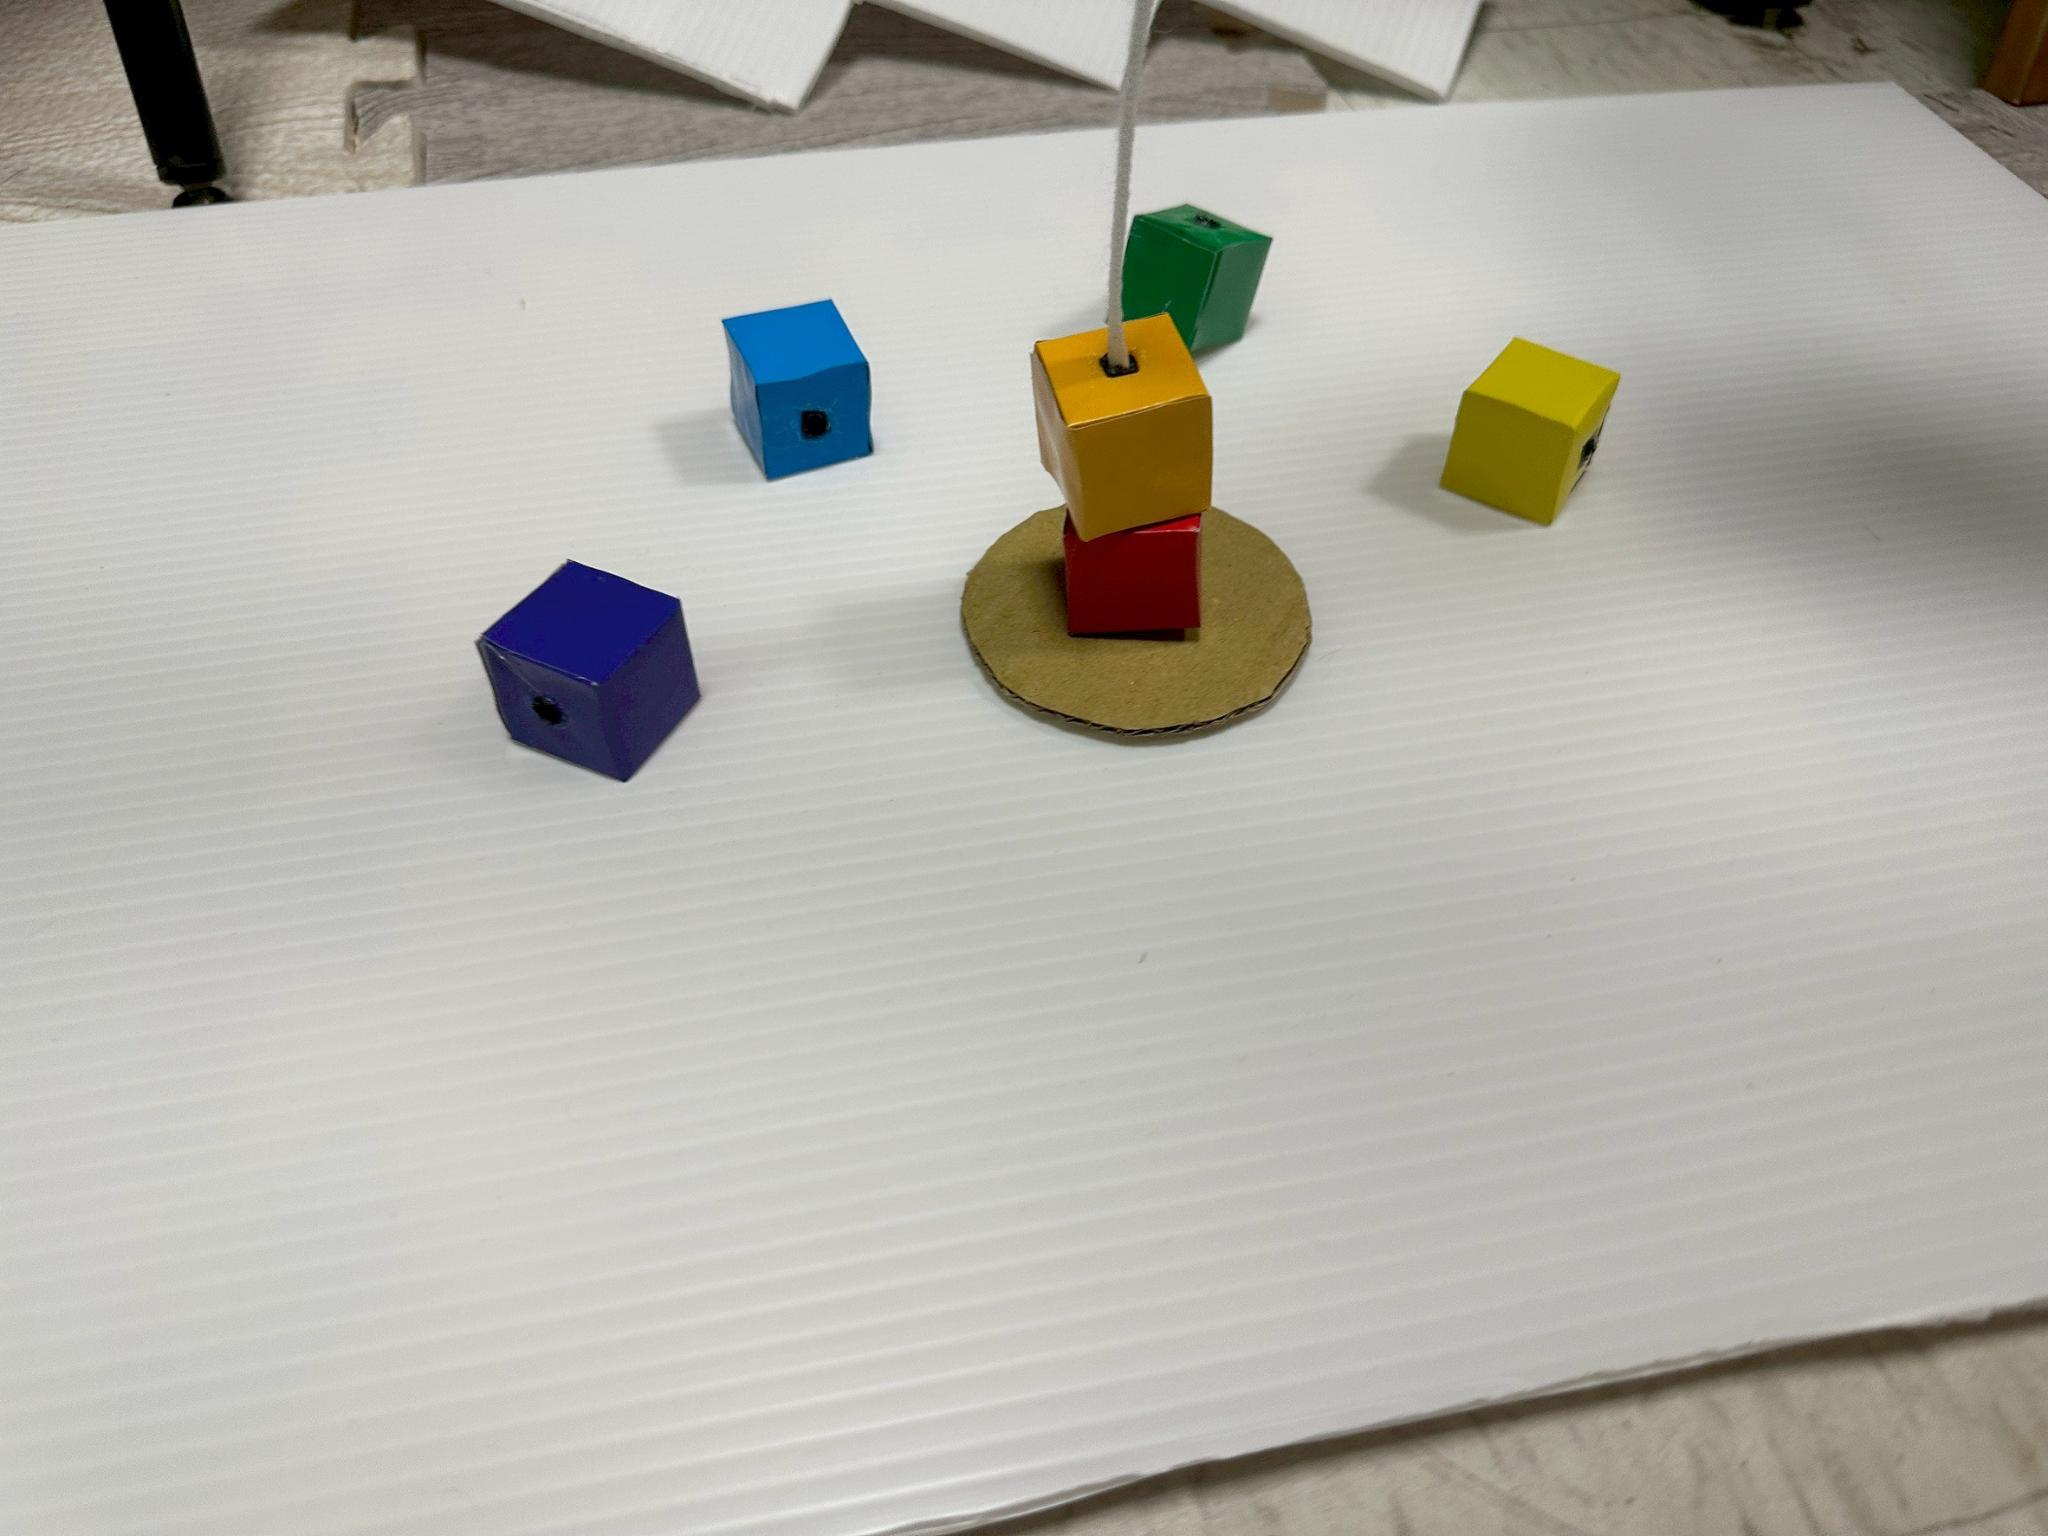base: (477, 561, 700, 781), (1032, 315, 1213, 541), (1442, 337, 1621, 524), (724, 300, 871, 479), (1124, 205, 1271, 355), (1064, 513, 1201, 636)
